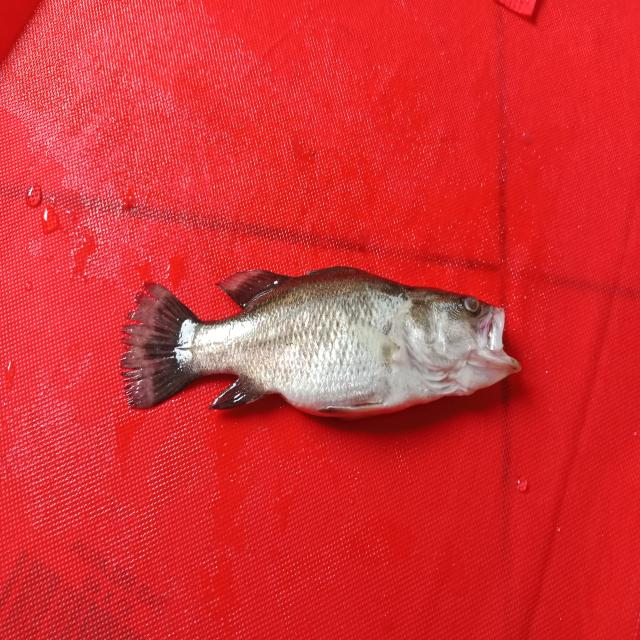ikan: (105, 211, 537, 447)
